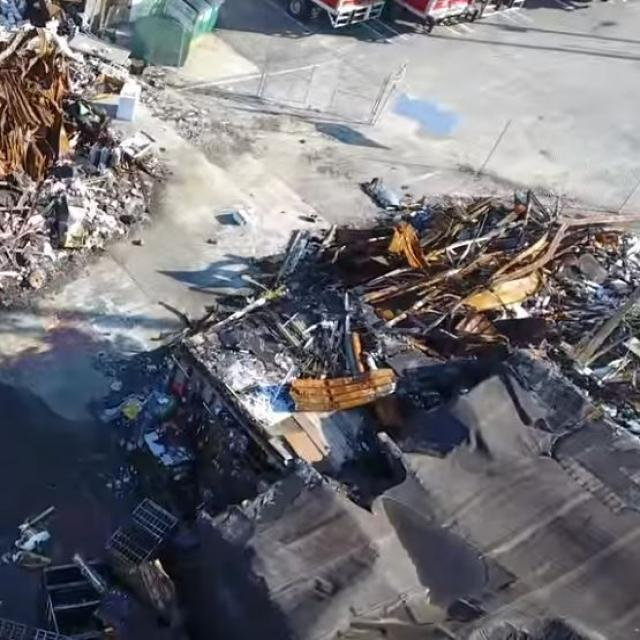collapsed_building: (182, 200, 636, 639), (0, 2, 146, 273)
